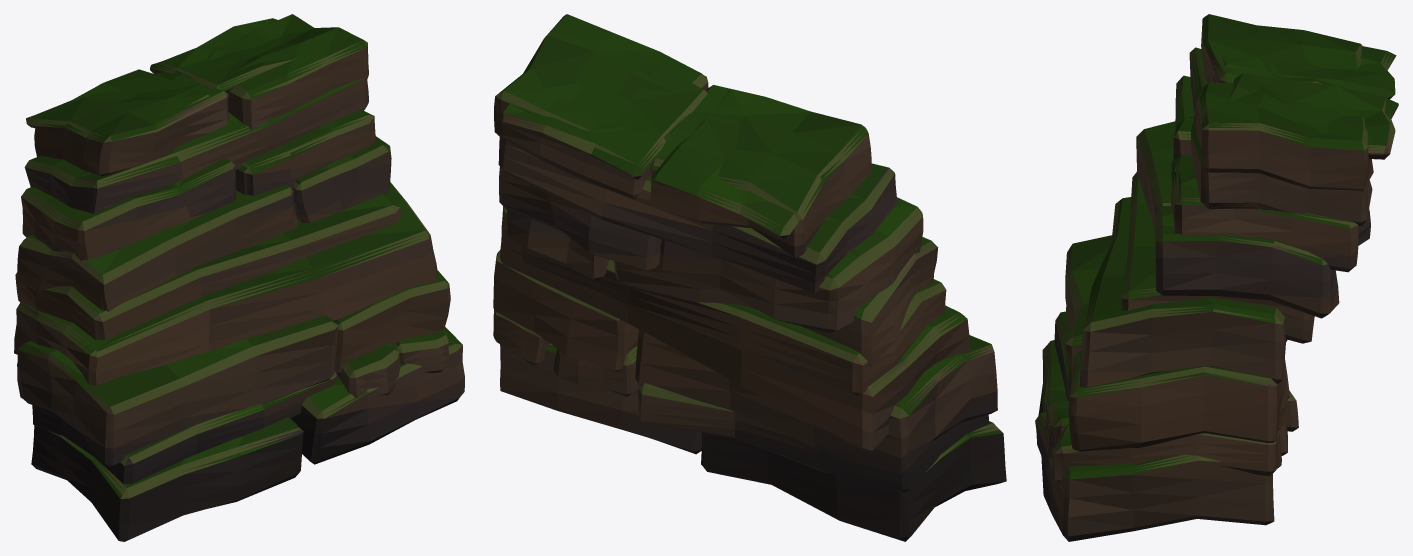
Rendered from cliff_strata_wide.glb.
The picture shows the model from 3 angles, left to right: view 1: azimuth 30°, elevation 25°; view 2: azimuth 150°, elevation 25°; view 3: azimuth 270°, elevation 25°; orthographic projection. The views are drawn at different scales.
Visible parts, largest first — view 1: cliff_strata_wide; view 2: cliff_strata_wide; view 3: cliff_strata_wide.
Boxes of the visible parts, <box> form: cliff_strata_wide: <box>14,14,464,541</box>; cliff_strata_wide: <box>493,14,1006,541</box>; cliff_strata_wide: <box>1035,14,1398,541</box>.
Bounding box in the file's own units: 8.61 × 8.56 × 6.13.
